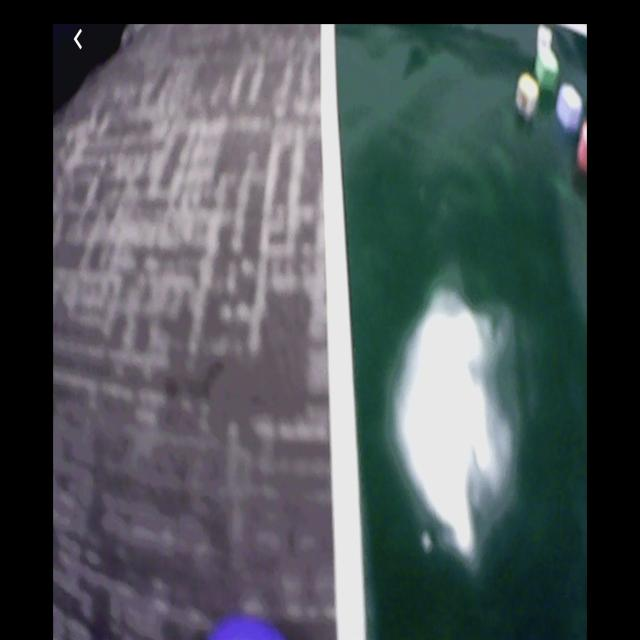ball: (208, 615, 293, 640)
